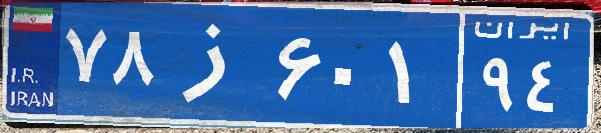0: (330, 28, 385, 110)
1: (385, 28, 445, 110)
4: (525, 38, 570, 115)
6: (273, 28, 330, 110)
7: (57, 26, 110, 107)
8: (110, 28, 158, 105)
9: (475, 38, 525, 113)
ز: (158, 15, 273, 115)
